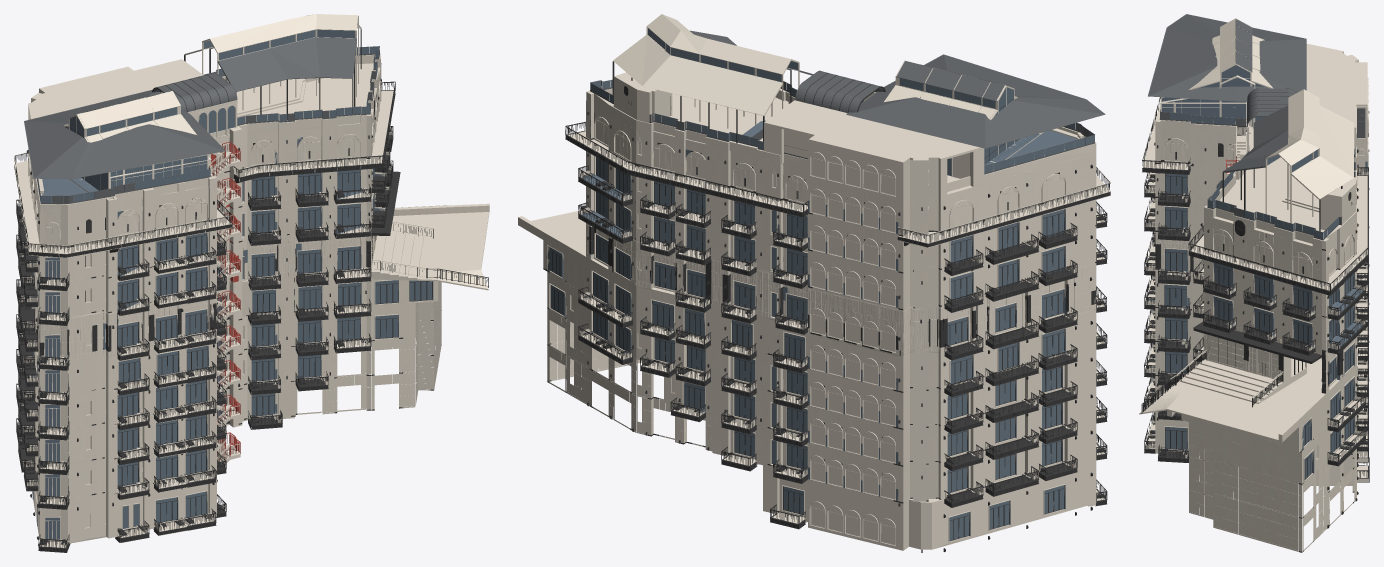
Rendered from serene-heights.glb.
3 views of the same model, side by side, from view 1: azimuth 30°, elevation 25°; view 2: azimuth 150°, elevation 25°; view 3: azimuth 270°, elevation 25° (orthographic). The views are drawn at different scales.
Visible parts, largest first — view 1: building; view 2: building; view 3: building.
Part boxes in pixels (box(x1,y1,x2,y2)): building: box(14, 14, 489, 552); building: box(518, 14, 1110, 552); building: box(1139, 14, 1369, 552).
Bounding box in the file's own units: 58.49 × 45.18 × 23.39.
